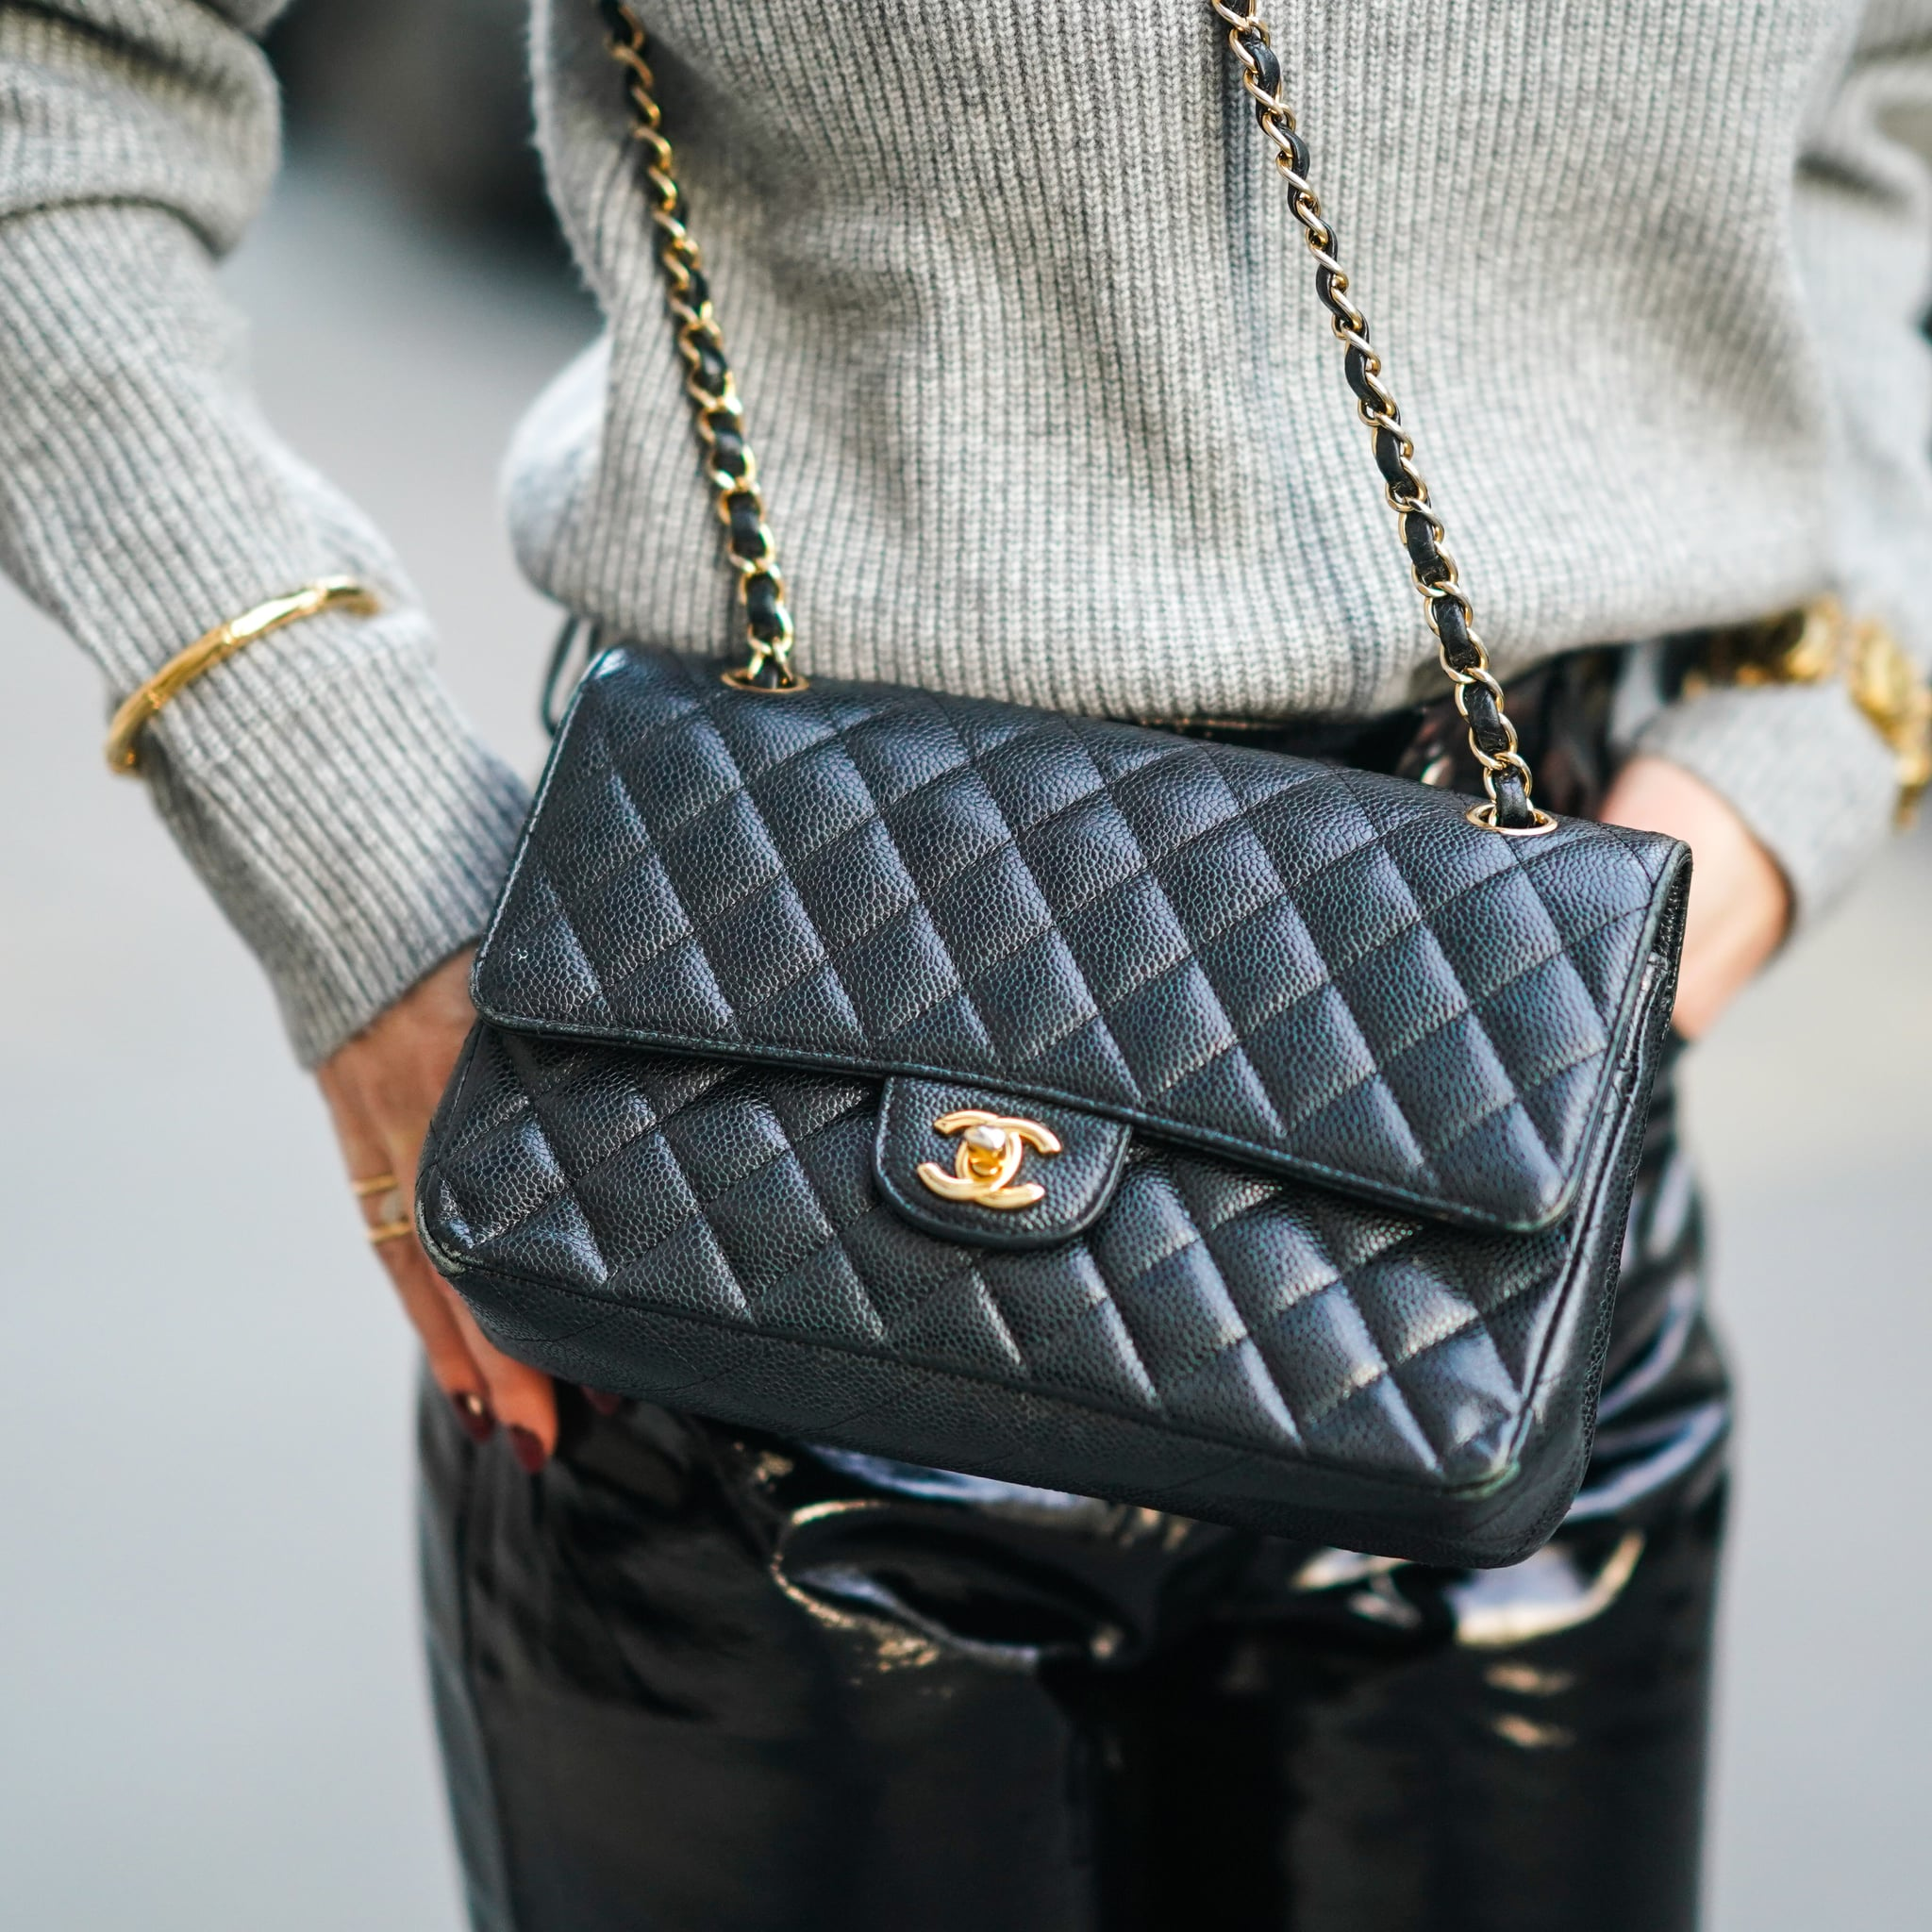channel: (478, 697, 1638, 1543), (602, 80, 800, 692), (1297, 915, 1520, 1355), (904, 1118, 1090, 1254)
